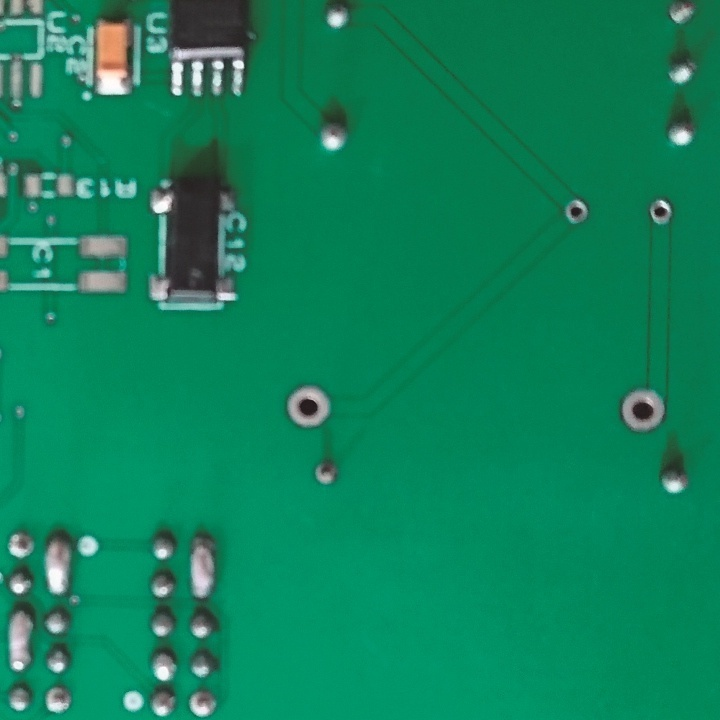F: (621, 388, 664, 435), (287, 383, 330, 430), (42, 684, 72, 716), (664, 1, 699, 28), (312, 455, 337, 490), (647, 197, 676, 226), (189, 689, 219, 717), (7, 532, 35, 559), (564, 197, 590, 226)
P: (189, 530, 216, 602), (7, 607, 36, 672), (45, 534, 72, 595)
